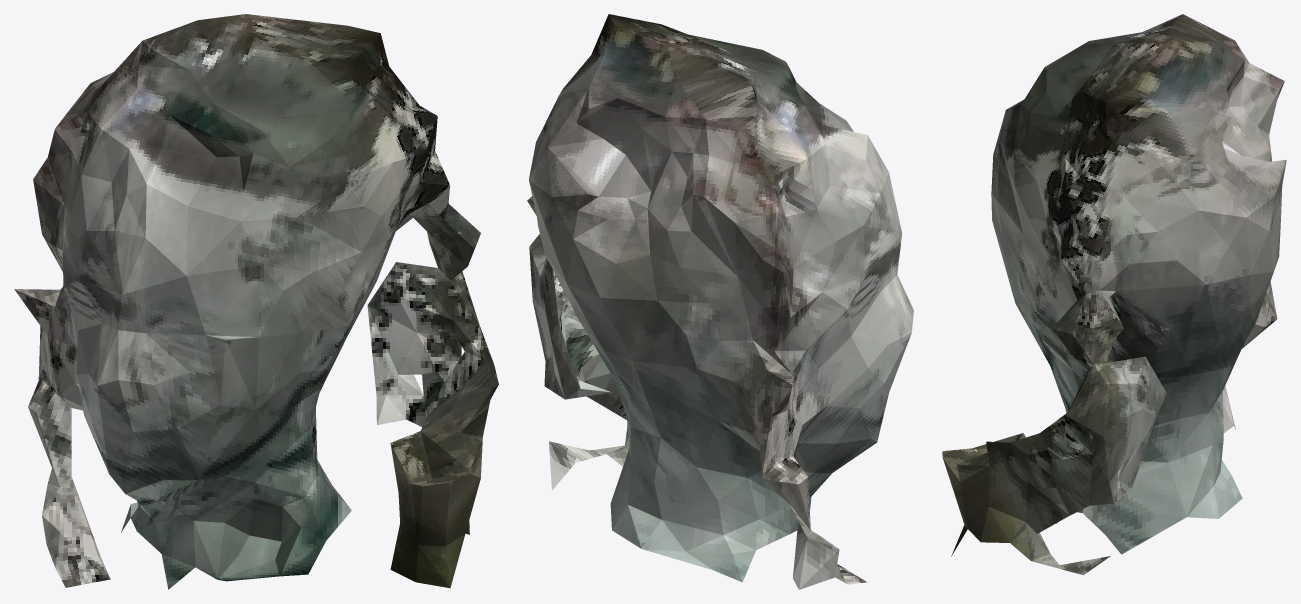
Rendered from portable-oxygen-plant.glb.
The picture shows the model from 3 angles, left to right: view 1: azimuth 30°, elevation 25°; view 2: azimuth 150°, elevation 25°; view 3: azimuth 270°, elevation 25°; orthographic projection. The views are drawn at different scales.
Parts seen in each view (by area): view 1: Mesh_0.008; view 2: Mesh_0.008; view 3: Mesh_0.008.
Part boxes in pixels (<box>): Mesh_0.008: <box>14,14,498,589</box>; Mesh_0.008: <box>527,14,913,589</box>; Mesh_0.008: <box>942,14,1286,575</box>.
Bounding box in the file's own units: 0.2153 × 0.2797 × 0.1794.
Materials: 1 (1 with a texture image).
